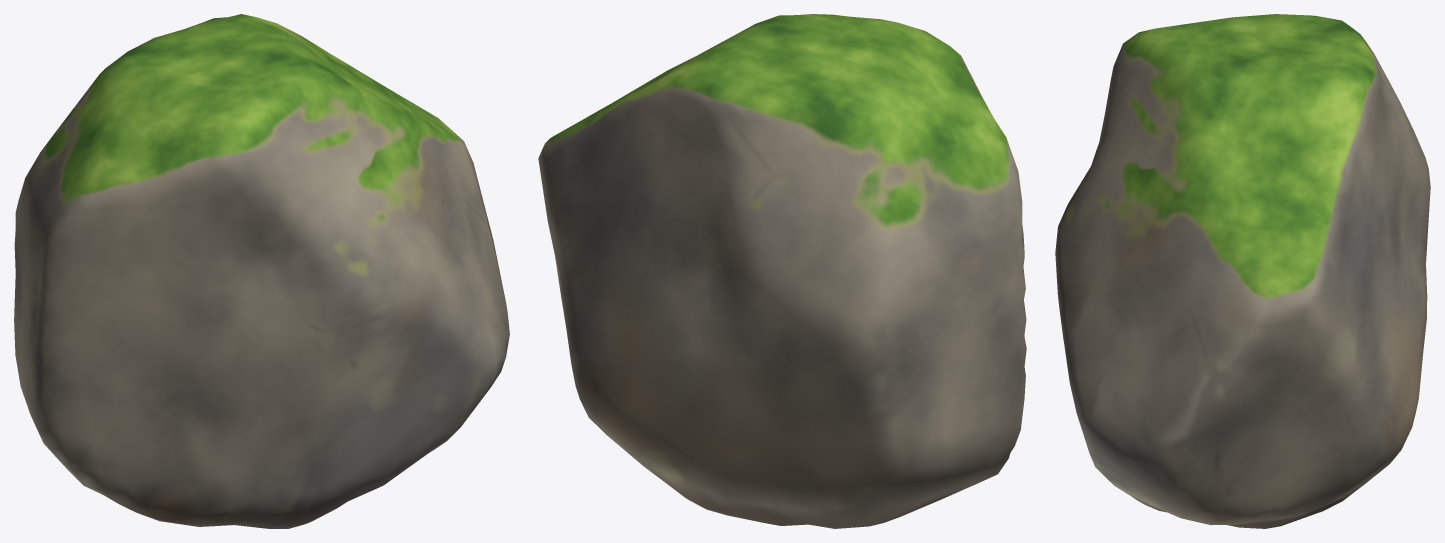
File: Rock_Mossy_D.fbx
The picture shows the model from 3 angles, left to right: view 1: azimuth 30°, elevation 25°; view 2: azimuth 150°, elevation 25°; view 3: azimuth 270°, elevation 25°; orthographic projection. The views are drawn at different scales.
Visible parts, largest first — view 1: Rock_Mossy_D; view 2: Rock_Mossy_D; view 3: Rock_Mossy_D.
Part boxes in pixels (x1,y1,x2,y2): Rock_Mossy_D: (14,14,509,528); Rock_Mossy_D: (538,14,1026,528); Rock_Mossy_D: (1055,14,1430,528).
Bounding box in the file's own units: 1.72 × 1.7 × 1.26.
Materials: 1 (1 with a texture image).
